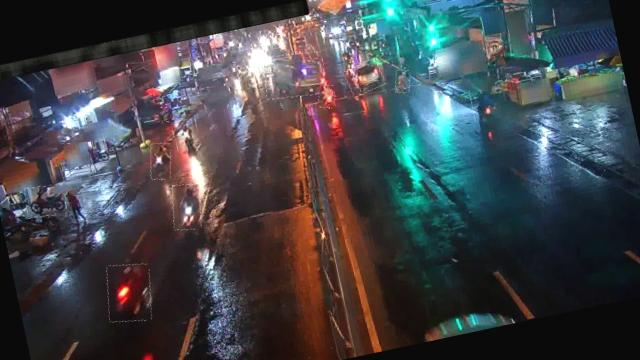Bike: (100, 258, 158, 326), (167, 181, 206, 232), (24, 181, 70, 220), (469, 84, 502, 121), (146, 140, 175, 181), (172, 118, 202, 152), (393, 68, 413, 94), (316, 84, 337, 108)
Bus: (260, 47, 329, 103)
Car: (344, 59, 385, 96)
